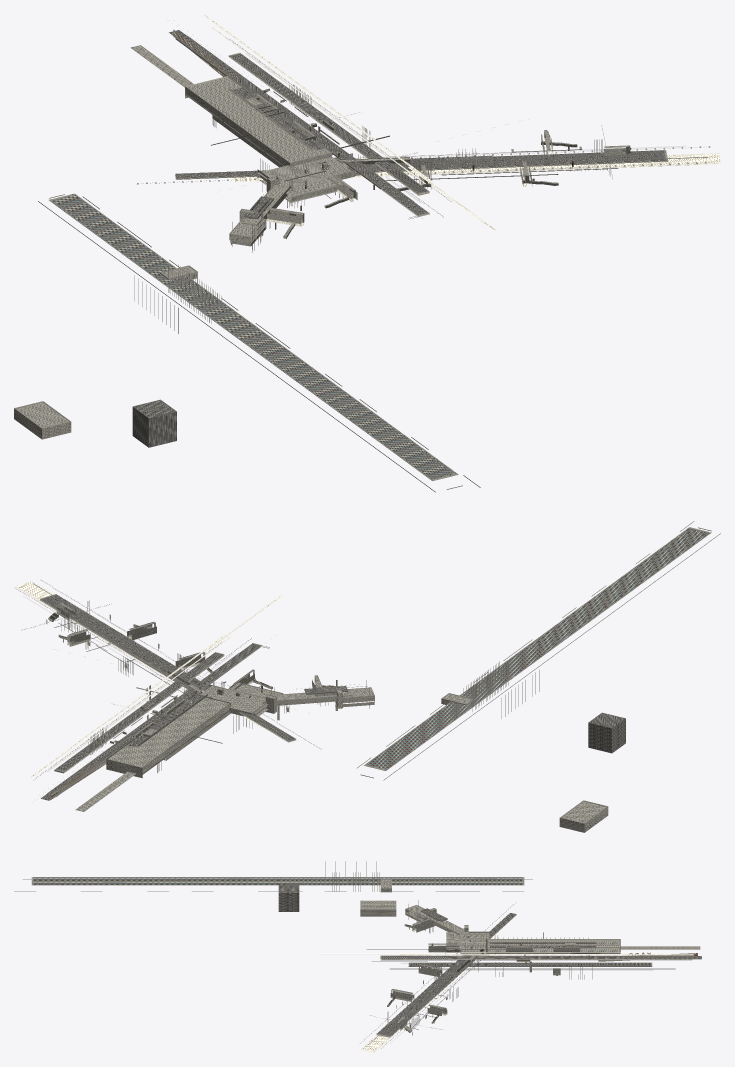
Rendered from KADO_kado02_texture_fixed.glb.
3 renders of one model, top to bottom at view 1: azimuth 30°, elevation 25°; view 2: azimuth 150°, elevation 25°; view 3: azimuth 270°, elevation 25°, orthographic. The views are drawn at different scales.
Visible parts, largest first — view 1: Cube.148, Cube.1588, Cube.100, Cube.1573, Cube.1623, Cube.005, Cube.1524, Cube.001, Cube.327, Cube.006, Cube.146, Cube.1719 (+1 smaller); view 2: Cube.148, Cube.1588, Cube.100, Cube.1573, Cube.1524, Cube.1623, Cube.001, Cube.327, Cube.006, Cube.146, Cube.1719, Cube.005 (+3 smaller); view 3: Cube.148, Cube.1588, Cube.100, Cube.1524, Cube.1573, Cube.006, Cube.146, Cube.1623, Cube.327, Cube.001, Cube.1523, Cube.1571 (+4 smaller).
Part boxes in pixels (x1,y1,x2,y2): Cube.148: (51,195,455,479); Cube.1588: (185,76,331,162); Cube.100: (175,150,667,179); Cube.1573: (169,30,429,215); Cube.1623: (257,157,375,201); Cube.005: (232,153,720,181); Cube.1524: (230,53,429,193); Cube.001: (132,399,176,447); Cube.327: (14,401,71,439); Cube.006: (203,14,495,229); Cube.146: (49,193,458,480); Cube.1719: (185,86,290,167); Cube.148: (366,528,709,769); Cube.1588: (106,694,230,778); Cube.100: (40,595,295,741); Cube.1573: (41,643,261,800); Cube.1524: (56,653,223,771); Cube.1623: (192,680,282,716); Cube.001: (588,712,625,753); Cube.327: (559,800,608,832); Cube.006: (30,595,281,777); Cube.146: (364,527,711,770); Cube.1719: (142,703,231,774); Cube.005: (16,581,263,728); Cube.148: (33,877,522,884); Cube.1588: (486,939,620,952); Cube.100: (377,913,516,1037); Cube.1524: (408,962,651,966); Cube.1573: (381,955,701,960); Cube.006: (317,952,693,955); Cube.146: (31,877,524,885); Cube.1623: (446,932,489,954); Cube.327: (360,900,396,916); Cube.001: (278,885,299,911); Cube.1523: (390,968,675,969); Cube.1571: (380,955,692,960).
Size of the model in its own units: 48.86 by 8.98 by 67.79.
12 materials, 11 textured.
